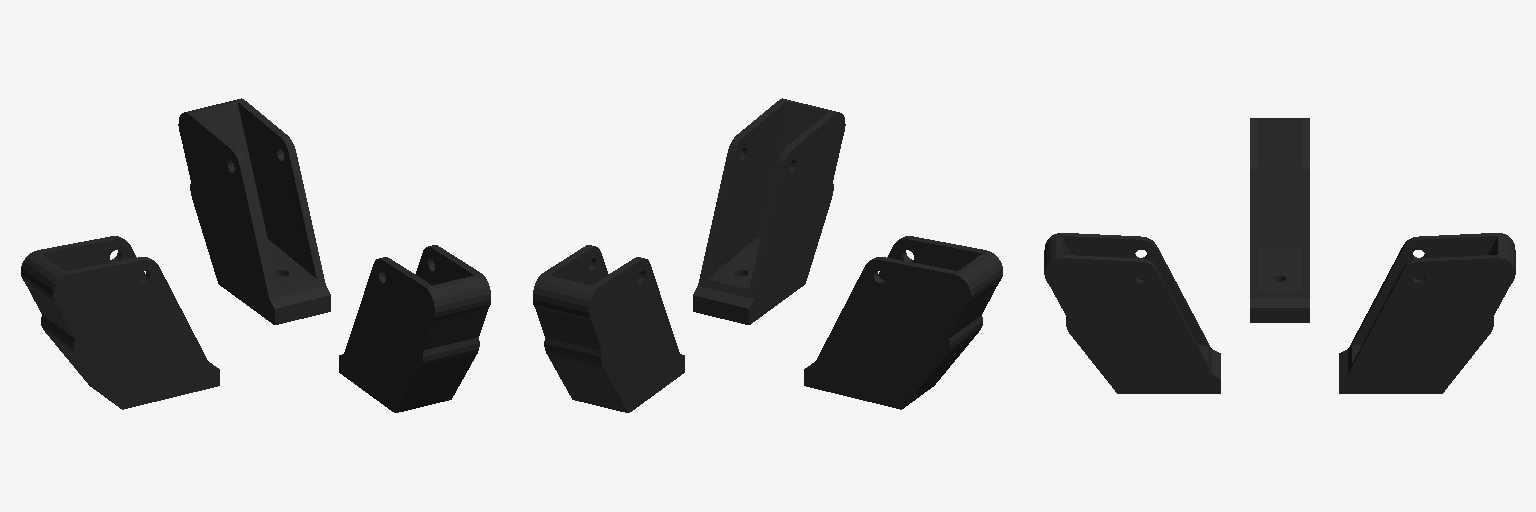
The robot description file, URDF, robot "lbr_iiwa_with_wsg50":
<?xml version="1.0" ?>
<robot name="lbr_iiwa_with_wsg50">

  <!-- Import Rviz colors -->
  <material name="Grey">
    <color rgba="0.2 0.2 0.2 1.0"/>
  </material>
  <material name="Orange">
    <color rgba="1.0 0.423529411765 0.0392156862745 1.0"/>
  </material>
  <material name="Blue">
  <color rgba="0.5 0.7 1.0 1.0"/>
</material>

  <!-- link 0 -->
  <link name="lbr_iiwa_link_0">
  <selfCollide>false</selfCollide>
    <inertial>
      <mass value="0.1"/>
      <origin xyz="-0.1 0 0.07" rpy="0 0 0"/>
      <inertia ixx="0.05" ixy="0" ixz="0" iyy="0.06" iyz="0" izz="0.03"/>
    </inertial>
    <collision name="lbr_iiwa_link_0_collision">
      <origin xyz="0 0 0" rpy="0 0 0"/>
      <geometry>
        <mesh filename="package://meshes//kuka//link_0.stl" scale="1 1 1"/>
      </geometry>
    </collision>
    <visual name="lbr_iiwa_link_0_visual">
      <origin xyz="0 0 0" rpy="0 0 0"/>
      <geometry>
        <mesh filename="package://meshes//kuka//link_0.stl" scale="1 1 1"/>
      </geometry>
      <material name="Grey"/>
    </visual>
  </link>

  <!-- joint between link_0 and link_1 -->
  <joint name="J0" type="revolute">
    <parent link="lbr_iiwa_link_0"/>
    <child link="lbr_iiwa_link_1"/>
    <origin xyz="0 0 0.1575" rpy="0 0 0"/>
    <axis xyz="0 0 1"/>
    <limit lower="-2.96706" upper="2.96706" effort="300.0" velocity="10.0"/>
  </joint>


  <!-- link 1 -->
  <link name="lbr_iiwa_link_1">
  <selfCollide>false</selfCollide>
    <inertial>
      <mass value="4"/>
      <origin xyz="0   -0.03  0.12" rpy="0 0 0"/>
      <inertia ixx="0.1" ixy="0" ixz="0" iyy="0.09" iyz="0" izz="0.02"/>
    </inertial>
    <collision name="lbr_iiwa_link_1_collision">
      <origin xyz="0 0 0" rpy="0 0 0"/>
      <geometry>
        <mesh filename="package://meshes//kuka//link_1.stl" scale="1 1 1"/>
      </geometry>
    </collision>
    <visual name="lbr_iiwa_link_1_visual">
      <origin xyz="0 0 0" rpy="0 0 0"/>
      <geometry>
        <mesh filename="package://meshes//kuka//link_1.stl" scale="1 1 1"/>
      </geometry>
      <material name="Blue"/>
    </visual>
  </link>

  <!-- joint between link_1 and link_2 -->
  <joint name="J1" type="revolute">
    <parent link="lbr_iiwa_link_1"/>
    <child link="lbr_iiwa_link_2"/>
    <origin xyz="0 0 0.2025" rpy="1.5708 0 -3.14159"/>
    <axis xyz="0 0 1"/>
    <limit lower="-2.0944" upper="2.0944" effort="300.0" velocity="10.0"/>
  </joint>

  <!-- link 2 -->
  <link name="lbr_iiwa_link_2">
  <selfCollide>false</selfCollide>
    <inertial>
      <mass value="4"/>
      <origin xyz="0.00029 0.059   0.042" rpy="0 0 0"/>
      <inertia ixx="0.05" ixy="0" ixz="0" iyy="0.018" iyz="0" izz="0.044"/>
    </inertial>
    <collision name="lbr_iiwa_link_2_collision">
      <origin xyz="0 0 0" rpy="0 0 0"/>
      <geometry>
        <mesh filename="package://meshes//kuka//link_2.stl" scale="1 1 1"/>
      </geometry>
    </collision>
    <visual name="lbr_iiwa_link_2_visual">
      <origin xyz="0 0 0" rpy="0 0 0"/>
      <geometry>
        <mesh filename="package://meshes//kuka//link_2.stl" scale="1 1 1"/>
      </geometry>
      <material name="Blue"/>
    </visual>
  </link>

  <!-- joint between link_2 and link_3 -->
  <joint name="J2" type="revolute">
    <parent link="lbr_iiwa_link_2"/>
    <child link="lbr_iiwa_link_3"/>
    <origin xyz="0     0.2045 0" rpy="1.5708 0 -3.14159"/>
    <axis xyz="0 0 1"/>
    <limit lower="-2.96706" upper="2.96706" effort="300.0" velocity="10.0"/>
  </joint>

  <link name="lbr_iiwa_link_3">
  <selfCollide>false</selfCollide>
    <inertial>
      <mass value="3"/>
      <origin xyz="0   0.03 0.13" rpy="0 0 0"/>
      <inertia ixx="0.08" ixy="0" ixz="0" iyy="0.075" iyz="0" izz="0.01"/>
    </inertial>
    <collision name="lbr_iiwa_link_3_collision">
      <origin xyz="0 0 0" rpy="0 0 0"/>
      <geometry>
        <mesh filename="package://meshes//kuka//link_3.stl" scale="1 1 1"/>
      </geometry>
    </collision>
    <visual name="lbr_iiwa_link_3_visual">
      <origin xyz="0 0 0" rpy="0 0 0"/>
      <geometry>
        <mesh filename="package://meshes//kuka//link_3.stl" scale="1 1 1"/>
      </geometry>
      <material name="Orange"/>
    </visual>
  </link>

  <joint name="J3" type="revolute">
    <parent link="lbr_iiwa_link_3"/>
    <child link="lbr_iiwa_link_4"/>
    <origin xyz="0     0     0.2155" rpy="1.5708 0     0"/>
    <axis xyz="0 0 1"/>
    <limit lower="-2.0944" upper="2.0944" effort="300.0" velocity="10.0"/>
  </joint>

  <link name="lbr_iiwa_link_4">
  <selfCollide>false</selfCollide>
    <inertial>
      <mass value="2.7"/>
      <origin xyz="0    0.067 0.034" rpy="0 0 0"/>
      <inertia ixx="0.03" ixy="0" ixz="0" iyy="0.01" iyz="0" izz="0.029"/>
    </inertial>
    <collision name="lbr_iiwa_link_4_collision">
      <origin xyz="0 0 0" rpy="0 0 0"/>
      <geometry>
        <mesh filename="package://meshes//kuka//link_4.stl" scale="1 1 1"/>
      </geometry>
    </collision>
    <visual name="lbr_iiwa_link_4_visual">
      <origin xyz="0 0 0" rpy="0 0 0"/>
      <geometry>
        <mesh filename="package://meshes//kuka//link_4.stl" scale="1 1 1"/>
      </geometry>
      <material name="Blue"/>
    </visual>
  </link>


  <joint name="J4" type="revolute">
    <parent link="lbr_iiwa_link_4"/>
    <child link="lbr_iiwa_link_5"/>
    <origin xyz="0     0.1845 0" rpy="1.5708  0      3.14159"/>
    <axis xyz="0 0 1"/>
    <limit lower="-2.96706" upper="2.96706" effort="300.0" velocity="10.0"/>
  </joint>


  <link name="lbr_iiwa_link_5">
  <selfCollide>false</selfCollide>
    <inertial>
      <mass value="1.7"/>
      <origin xyz="0.0001 0.021  0.076" rpy="0 0 0"/>
      <inertia ixx="0.02" ixy="0" ixz="0" iyy="0.018" iyz="0" izz="0.005"/>
    </inertial>
    <collision name="lbr_iiwa_link_5_collision">
      <origin xyz="0 0 0" rpy="0 0 0"/>
      <geometry>
        <mesh filename="package://meshes//kuka//link_5.stl" scale="1 1 1"/>
      </geometry>
    </collision>
    <visual name="lbr_iiwa_link_5_visual">
      <origin xyz="0 0 0" rpy="0 0 0"/>
      <geometry>
        <mesh filename="package://meshes//kuka//link_5.stl" scale="1 1 1"/>
      </geometry>
      <material name="Blue"/>
    </visual>
  </link>

  <joint name="J5" type="revolute">
    <parent link="lbr_iiwa_link_5"/>
    <child link="lbr_iiwa_link_6"/>
    <origin xyz="0     0     0.2155" rpy="1.5708 0     0"/>
    <axis xyz="0 0 1"/>
    <limit lower="-2.0944" upper="2.0944" effort="300.0" velocity="10.0"/>
  </joint>

  <link name="lbr_iiwa_link_6">
  <selfCollide>false</selfCollide>
    <inertial>
      <mass value="1.8"/>
      <origin xyz="0      0.00059 0.0004" rpy="0 0 0"/>
      <inertia ixx="0.005" ixy="0" ixz="0" iyy="0.0036" iyz="0" izz="0.0047"/>
    </inertial>
    <collision name="lbr_iiwa_link_6_collision">
      <origin xyz="0 0 0" rpy="0 0 0"/>
      <geometry>
        <mesh filename="package://meshes//kuka//link_6.stl" scale="1 1 1"/>
      </geometry>
    </collision>
    <visual name="lbr_iiwa_link_6_visual">
      <origin xyz="0 0 0" rpy="0 0 0"/>
      <geometry>
        <mesh filename="package://meshes//kuka//link_6.stl" scale="1 1 1"/>
      </geometry>
      <material name="Orange"/>
    </visual>
  </link>

  <joint name="J6" type="revolute">
    <parent link="lbr_iiwa_link_6"/>
    <child link="lbr_iiwa_link_7"/>
    <origin xyz="0    0.081 0" rpy="1.5708   0      -3.14159"/>
    <axis xyz="0 0 1"/>
    <limit lower="-3.05433" upper="3.05433" effort="300.0" velocity="10.0"/>
  </joint>

  <link name="lbr_iiwa_link_7">
  <selfCollide>false</selfCollide>
    <inertial>
      <mass value="0.3"/>
      <origin xyz="0   0   0.02" rpy="0 0 0"/>
      <inertia ixx="0.001" ixy="0" ixz="0" iyy="0.001" iyz="0" izz="0.001"/>
    </inertial>
    <collision name="lbr_iiwa_link_7_collision">
      <origin xyz="0 0 0" rpy="0 0 0"/>
      <geometry>
        <mesh filename="package://meshes//kuka//link_7.stl" scale="1 1 1"/>
      </geometry>
    </collision>
    <visual name="lbr_iiwa_link_7_visual">
      <origin xyz="0 0 0" rpy="0 0 0"/>
      <geometry>
        <mesh filename="package://meshes//kuka//link_7.stl" scale="1 1 1"/>
      </geometry>
      <material name="Grey"/>
    </visual>
  </link>

<!-- Palm -->

  <joint name="base_joint" type="fixed">
    <parent link="lbr_iiwa_link_7"/>
    <child link="hand_base_link"/>
    <origin xyz="0 0 0.132936" rpy="0 0 0"/> <!-- 0.044 -->
    <axis xyz="0 0 0"/>
    <limit lower="0" upper="0" effort="0" velocity="0"/>
  </joint>

  <link name="hand_base_link"> </link>

  <!-- pas conforme au setup reel -->
  <!-- xyz="-0.11876 0 0.11935"
       rpy="0 0.93236 0"/>-->
  <!-- setup reel-->
  <joint name="hand_interface_to_base" type="fixed">
    <origin rpy="0 0.0 0" xyz="0 0 0.0"/> <!-- 0.132936 -->
    <parent link="hand_base_link"/>
    <child link="hand_base_hand"/>
    <axis xyz="0 0 0"/>
  </joint>

  <link name="hand_base_hand">
    <selfCollide>false</selfCollide>
    <inertial>
      <origin rpy="0 0 0" xyz="0.00 0.0 -0.04818"/>
      <mass value="2.9623"/>
      <inertia ixx="0.0098688" ixy="0" ixz="-0.00072557" iyy="0.011075" iyz="0" izz="0.015946"/>
    </inertial>
    <visual>
      <origin rpy="0 0 0" xyz="0 0 0"/>
      <geometry>
        <mesh filename="package://visual/paume/base_hand_paume2.STL" />
        <!--  filename="package://cea_robots/meshes/hand/visual/base_link.STL" />-->
      </geometry>
      <material name="Grey"/>
    </visual>
    <collision>
      <origin rpy="0 0 0" xyz="0 0 0"/>
      <geometry>
        <mesh filename="package://collision/paume/base_hand_paume2.STL"/>
        <!-- filename="package://cea_robots/meshes/hand/collision/base_link.STL" />-->
      </geometry>
    </collision>
  </link>

<!-- Finger 1 -->
<!-- Adduction / abduction Joint -->
<!-- Just a reminder joint frame are localized upon the parent joint frame -->
<!-- Then the inertia frame, link frame is localized upon this new joint frame -->
<!-- Same goes for visual and collision frame -->
<!-- rpy = pitch yaw roll ; 
remember that at each rotation we're using the old axes to do it not the new ones -->
  <joint name="base_finger_1" type="fixed">
    <origin rpy="0 -1.5708 -3.1416 " xyz="0.075 0.075 0.09885097"/>
    <parent link="hand_base_hand"/>
    <child link="finger1_B"/>
    <axis xyz="1 0 0"/>
    <dynamics damping="8"/>
    <limit effort="100" lower="-1.5708" upper="0" velocity="3"/>
  </joint>

  <link name="finger1_B">
    <selfCollide>false</selfCollide>
    <inertial>
      <origin rpy="0 0 0" xyz="-0.0465 -0.04775 -0.0"/>
      <mass value="0.519"/>
      <inertia ixx="0.0007" ixy="-0.0002" ixz="0.0" iyy="0.0006" iyz="0.0" izz="0.0011"/>
    </inertial>
    <visual>
      <origin rpy="0 0 0" xyz="0 0 0"/>
      <geometry>
        <mesh filename="package://visual/base_finger/finger.STL" />
      </geometry>
      <material name="Grey"/>
    </visual>
    <collision>
      <origin rpy="0 0 0" xyz="0 0 0"/>
      <geometry>
        <mesh filename="package://collision/base_finger/finger.STL" />
      </geometry>
    </collision>
  </link>

  <joint name="finger1_BP_joint" type="revolute">
    <origin rpy="0 0 0" xyz="0 -0.03255 0"/>
    <parent link="finger1_B"/>
    <child link="finger1_P"/>
    <axis xyz="0 0 1"/>
    <dynamics damping="0.3"/>
    <limit effort="5" lower="-1.3" upper="0.31416" velocity="5"/>  <!-- -0.43633 -->
  </joint>

  <link name="finger1_P">
    <selfCollide>false</selfCollide>
    <inertial>
      <origin rpy="0 0 0" xyz="0.044 -0.01009 0.0"/>
      <mass value="0.300"/>
      <inertia ixx="0.000092" ixy="-0.000061" ixz="0.0" iyy="0.00031" iyz="0.0" izz="0.00031"/>
      <!--<mass value="0.09833" />
          <inertia
              ixx="0.00003"
              ixy="-0.00002"
              ixz="0.0"
              iyy="0.00010"
              iyz="0.0"
              izz="0.00010" />-->
    </inertial>

    <visual>
      <origin rpy="0 0 0" xyz="0 0 0"/>
      <geometry>
        <mesh filename="package://visual/proximal/proximal_0.11.STL" />
      </geometry>
      <material name="Orange"/>
    </visual>

    <collision>
      <!--<origin rpy="0 0 0" xyz="0.04 -0.01 0"/>
      <geometry>
        <box size="0.090 0.030 0.033"/>
      </geometry>-->

      <origin rpy="0 0 0" xyz="0 0 0"/>
      <geometry>
        <mesh filename="package://collision/proximal/proximal_0.11.STL" />
      </geometry>
    </collision>
  </link>

  <joint name="finger1_PD_joint" type="revolute">
    <origin rpy="0 0 0" xyz="0.1 0 0.0"/>
    <parent link="finger1_P"/>
    <child link="finger1_D"/>
    <axis xyz="0 0 1"/>
    <dynamics damping="0.3"/>
    <limit effort="5" lower="-0.5" upper="1.0472" velocity="5"/>
  </joint>

  <link name="finger1_D">
    <selfCollide>false</selfCollide>
    <inertial>
      <origin rpy="0 0 0" xyz="0.04016 -0.00152 0.0"/>
      <mass value="0.150"/>
      <inertia ixx="0.000025" ixy="0.000013" ixz="0.0" iyy="0.000102" iyz="0.0" izz="0.000108"/>
      <!--<mass value="0.200" />
          <inertia
              ixx="0.000028"
              ixy="0.000014"
              ixz="0.0"
              iyy="0.000113"
              iyz="0.0"
              izz="0.000120" />-->
      <!--<mass value="0.02828" />
          <inertia
              ixx="0.000004"
              ixy="0.000002"
              ixz="0.0"
              iyy="0.000016"
              iyz="0.0"
              izz="0.000017" />-->
    </inertial>
    <visual>
      <origin rpy="0 0 0" xyz="0 0 0"/>
      <geometry>
        <mesh filename="package://visual/distal/distal_2P/distal_0.866.STL" />
      </geometry>
      <material name="Orange"/>
    </visual>
    <collision>
      <!--<origin rpy="0 1.57 0" xyz="0.030 -0.002 0"/>
      <geometry>
        <cylinder length="0.066" radius="0.011"/>
      </geometry>
      -->
      <origin rpy="0 0 0" xyz="0 0 0"/>
      <geometry>
        <mesh filename="package://collision/distal/distal_2P/distal_0.866.STL" />
      </geometry>
    </collision>

    <!--<collision>
      <origin rpy="0 0 0" xyz="0.063 -0.002 0"/>
      <geometry>
        <sphere radius="0.011"/>
      </geometry>
    </collision>-->
  </link>

<!-- FINGER 2 -->
<!-- Adduction / Abduction joint -->
  <joint name="base_finger_2" type="fixed">
    <origin rpy="3.1416 -1.5708 3.1416" xyz="0.075 -0.075 0.09885097"/>
    <parent link="hand_base_hand"/>
    <child link="finger2_B"/>
    <axis xyz="1 0 0"/>
    <dynamics damping="8"/>
    <limit effort="100" lower="0" upper="1.5708" velocity="3"/>
    <mimic joint="hand_abduction1" multiplier="-1" offset="0"/>
  </joint>

  <link name="finger2_B">
    <selfCollide>false</selfCollide>
    <inertial>
      <origin rpy="0 0 0" xyz="-0.0465 -0.04775 -0.0"/>
      <mass value="0.519"/>
      <inertia ixx="0.0007" ixy="-0.0002" ixz="0.0" iyy="0.0006" iyz="0.0" izz="0.0011"/>
    </inertial>
    <visual>
      <origin rpy="0 0 0" xyz="0 0 0"/>
      <geometry>
        <mesh filename="package://visual/base_finger/finger.STL" />
      </geometry>
      <material name="Grey"/>
    </visual>
    <collision>
      <origin rpy="0 0 0" xyz="0 0 0"/>
      <geometry>
        <mesh filename="package://collision/base_finger/finger.STL" />
      </geometry>
    </collision>
  </link>

  <joint name="finger2_BP_joint" type="revolute">
    <origin rpy="0 0 0" xyz="0 -0.03255 0"/>
    <parent link="finger2_B"/>
    <child link="finger2_P"/>
    <axis xyz="0 0 1"/>
    <dynamics damping="0.3"/>
    <limit effort="5" lower="-1.3" upper="0.31416" velocity="5"/>
  </joint>

  <link name="finger2_P">
    <selfCollide>false</selfCollide>
    <inertial>
      <origin rpy="0 0 0" xyz="0.044 -0.01009 0.0"/>
      <mass value="0.300"/>
      <inertia ixx="0.000092" ixy="-0.000061" ixz="0.0" iyy="0.00031" iyz="0.0" izz="0.00031"/>
      <!--<mass value="0.09833" />
          <inertia
              ixx="0.00003"
              ixy="-0.00002"
              ixz="0.0"
              iyy="0.00010"
              iyz="0.0"
              izz="0.00010" />-->
    </inertial>
    <visual>
      <origin rpy="0 0 0" xyz="0 0 0"/>
      <geometry>
        <mesh filename="package://visual/proximal/proximal_0.11.STL" />
      </geometry>
      <material name="Orange"/>
    </visual>
    <collision>
      <!--<origin rpy="0 0 0" xyz="0.04 -0.01 0"/>
      <geometry>
        <box size="0.090 0.030 0.033"/>
      </geometry>-->

      <origin rpy="0 0 0" xyz="0 0 0"/>
      <geometry>
        <mesh filename="package://collision/proximal/proximal_0.11.STL" />
      </geometry>
    </collision>
  </link>

  <joint name="finger2_PD_joint" type="revolute">
    <origin rpy="0 0 0" xyz="0.1 0 0.0"/>
    <parent link="finger2_P"/>
    <child link="finger2_D"/>
    <axis xyz="0 0 1"/>
    <dynamics damping="0.3"/>
    <limit effort="5" lower="-0.5" upper="1.0472" velocity="5"/>
  </joint>

  <link name="finger2_D">
    <selfCollide>false</selfCollide>
    <inertial>
      <origin rpy="0 0 0" xyz="0.04016 -0.00152 0.0"/>
      <mass value="0.150"/>
      <inertia ixx="0.000025" ixy="0.000013" ixz="0.0" iyy="0.000102" iyz="0.0" izz="0.000108"/>
      <!--<mass value="0.200" />
          <inertia
              ixx="0.000028"
              ixy="0.000014"
              ixz="0.0"
              iyy="0.000113"
              iyz="0.0"
              izz="0.000120" />-->
      <!--<mass value="0.02828" />
          <inertia
              ixx="0.000004"
              ixy="0.000002"
              ixz="0.0"
              iyy="0.000016"
              iyz="0.0"
              izz="0.000017" />-->
    </inertial>
    <visual>
      <origin rpy="0 0 0" xyz="0 0 0"/>
      <geometry>
        <mesh filename="package://visual/distal/distal_2P/distal_0.866.STL" />
      </geometry>
      <material name="Orange"/>
    </visual>
    <collision>
    <!--
      <origin rpy="0 1.57 0" xyz="0.030 -0.002 0"/>
      <geometry>
        <cylinder length="0.066" radius="0.011"/>
      </geometry>-->

      <origin rpy="0 0 0" xyz="0 0 0"/>
      <geometry>
        <mesh filename="package://collision/distal/distal_2P/distal_0.866.STL" />
      </geometry>
    </collision>
    <!--
    <collision>
      <origin rpy="0 0 0" xyz="0.063 -0.002 0"/>
      <geometry>
        <sphere radius="0.011"/>
      </geometry>
    </collision>-->
  </link>


  <!-- FINGER 3 -->

  <joint name="base_finger_3" type="fixed">
    <!-- position pas exactement bonne par rapport a la main reelle a 2-3 mm pres -->
    <origin rpy="-1.5708 -1.5708 0" xyz="-0.0625 0 0.09885097"/>
    <parent link="hand_base_hand"/>
    <child link="finger3_B"/>
    <axis xyz="0 0 0"/>
  </joint>

  <link name="finger3_B">
    <selfCollide>false</selfCollide>
    <inertial>
      <origin rpy="0 0 0" xyz="-0.0465 -0.04775 -0.0"/>
      <mass value="0.519"/>
      <inertia ixx="0.0007" ixy="-0.0002" ixz="0.0" iyy="0.0006" iyz="0.0" izz="0.0011"/>
    </inertial>
    <visual>
      <origin rpy="0 0 0" xyz="0 0 0"/>
      <geometry>
        <mesh filename="package://visual/base_finger/finger.STL" />
      </geometry>
      <material name="Grey"/>
    </visual>
    <collision>
      <origin rpy="0 0 0" xyz="0 0 0"/>
      <geometry>
        <mesh filename="package://collision/base_finger/finger.STL" />
      </geometry>
    </collision>
  </link>


  <joint name="finger3_BP_joint" type="revolute">
    <origin rpy="0 0 0" xyz="0 -0.03255 0"/>
    <parent link="finger3_B"/>
    <child link="finger3_P"/>
    <axis xyz="0 0 1"/>
    <dynamics damping="0.3"/>
    <limit effort="5" lower="-1.3" upper="0.31416" velocity="5"/>
  </joint>

  <link name="finger3_P">
    <selfCollide>false</selfCollide>
    <inertial>
      <origin rpy="0 0 0" xyz="0.044 -0.01009 0.0"/>
      <mass value="0.300"/>
      <inertia ixx="0.000092" ixy="-0.000061" ixz="0.0" iyy="0.00031" iyz="0.0" izz="0.00031"/>
      <!--<mass
                        value="0.09833" />
                    <inertia
                        ixx="0.00003"
                        ixy="-0.00002"
                        ixz="0.0"
                        iyy="0.00010"
                        iyz="0.0"
                        izz="0.00010" />-->
    </inertial>
    <visual>
      <origin rpy="0 0 0" xyz="0 0 0"/>
      <geometry>
        <mesh filename="package://visual/proximal/proximal_0.11.STL" />
      </geometry>
      <material name="Orange"/>
    </visual>

    <collision>

      <!--<origin rpy="0 0 0" xyz="0.04 -0.01 0"/>
      <geometry>
        <box size="0.090 0.030 0.033"/>
      </geometry>-->

      <origin rpy="0 0 0" xyz="0 0 0"/>
      <geometry>
        <mesh filename="package://collision/proximal/proximal_0.11.STL" />
      </geometry>

    </collision>
  </link>

  <joint name="finger3_PD_joint" type="revolute">
    <origin rpy="0 0 0" xyz="0.1 0 0.0"/>
    <parent link="finger3_P"/>
    <child link="finger3_D"/>
    <axis xyz="0 0 1"/>
    <dynamics damping="0.3"/>
    <limit effort="5" lower="-0.5" upper="1.0472" velocity="5"/>
  </joint>

  <link name="finger3_D">
    <selfCollide>false</selfCollide>
    <inertial>
      <origin rpy="0 0 0" xyz="0.04016 -0.00152 0.0"/>
      <mass value="0.150"/>
      <inertia ixx="0.000025" ixy="0.000013" ixz="0.0" iyy="0.000102" iyz="0.0" izz="0.000108"/>
      <!--<mass value="0.200" />
          <inertia
              ixx="0.000028"
              ixy="0.000014"
              ixz="0.0"
              iyy="0.000113"
              iyz="0.0"
              izz="0.000120" /> -->
      <!--<mass value="0.02828" />
          <inertia
            ixx="0.000004"
            ixy="0.000002"
            ixz="0.0"
            iyy="0.000016"
            iyz="0.0"
            izz="0.000017" /> -->
    </inertial>
    <visual>
      <origin rpy="0 0 0" xyz="0 0 0"/>
      <geometry>
        <mesh filename="package://visual/distal/distal_2P/distal_0.866.STL" />
      </geometry>
      <material name="Orange"/>
    </visual>
    <collision>
      <!-- 
      <origin rpy="0 1.57 0" xyz="0.030 -0.002 0"/> 
      <geometry>
      <cylinder length="0.066" radius="0.011"/> 
      </geometry>
      -->

      <origin rpy="0 0 0" xyz="0.0 0.0 0"/>
      <geometry>
        <mesh filename="package://collision/distal/distal_2P/distal_0.866.STL" />
      </geometry>
    </collision>

    <!--<collision>
      <origin rpy="0 0 0" xyz="0.063 -0.002 0"/>
      <geometry>
        <sphere radius="0.011"/>
      </geometry>
    </collision>-->
  </link>

  <joint name="hand_base_to_case" type="fixed">
    <origin rpy="0 0 0" xyz="0 0 0.013"/>
    <parent link="hand_base_hand"/>
    <child link="hand_case"/>
    <axis xyz="0 0 0"/>
  </joint>

  <link name="hand_case">
    <selfCollide>false</selfCollide>
    <visual>
      <origin rpy="0 0 0" xyz="0 0 0"/>
      <geometry>
        <mesh filename="package://visual/case/case_3d.STL"/>
      </geometry>
      <material name="Grey"/>
    </visual>
    <collision>
      <origin rpy="0 0 0" xyz="0 0 0"/>
      <geometry>
        <mesh filename="package://collision/case/case_3d.STL"/>
      </geometry>
    </collision>
  </link>

  <joint name="hand_case_to_grasp_center" type="fixed">
    <origin rpy="0 0 0" xyz="0 0 0.15"/>
    <parent link="hand_base_hand"/>
    <child link="hand_grasp_center"/>
    <axis xyz="0 0 0"/>
  </joint>

  <link name="hand_grasp_center"> </link>

</robot>

--- What the picture shows (computed from the rendered views, not written in the file) ---
The picture shows the robot from 3 angles, left to right: view 1: azimuth 30°, elevation 25°; view 2: azimuth 150°, elevation 25°; view 3: azimuth 270°, elevation 25°; orthographic projection.
Robot: lbr_iiwa_with_wsg50 — 21 links, 20 joints (13 revolute, 7 fixed); root link lbr_iiwa_link_0; default pose: all joints at 0.
Visible links, largest first — view 1: finger1_B, finger3_B, finger2_B; view 2: finger2_B, finger3_B, finger1_B; view 3: finger1_B, finger2_B, finger3_B.
Link boxes in pixels (left/top/right/bottom): finger1_B: left=178, top=98, right=330, bottom=324; finger3_B: left=21, top=236, right=219, bottom=409; finger2_B: left=339, top=245, right=490, bottom=412; finger2_B: left=693, top=98, right=845, bottom=324; finger3_B: left=804, top=236, right=1002, bottom=409; finger1_B: left=533, top=245, right=684, bottom=412; finger1_B: left=1339, top=233, right=1515, bottom=393; finger2_B: left=1044, top=233, right=1220, bottom=393; finger3_B: left=1250, top=118, right=1309, bottom=322.
Size in the robot's own frame: 0.2683 by 0.3651 by 0.1166 metres.
3 mesh visuals loaded from 13 distinct referenced files (1 binary STL); not drawn: 16 (reference not matched to a file when rendering).